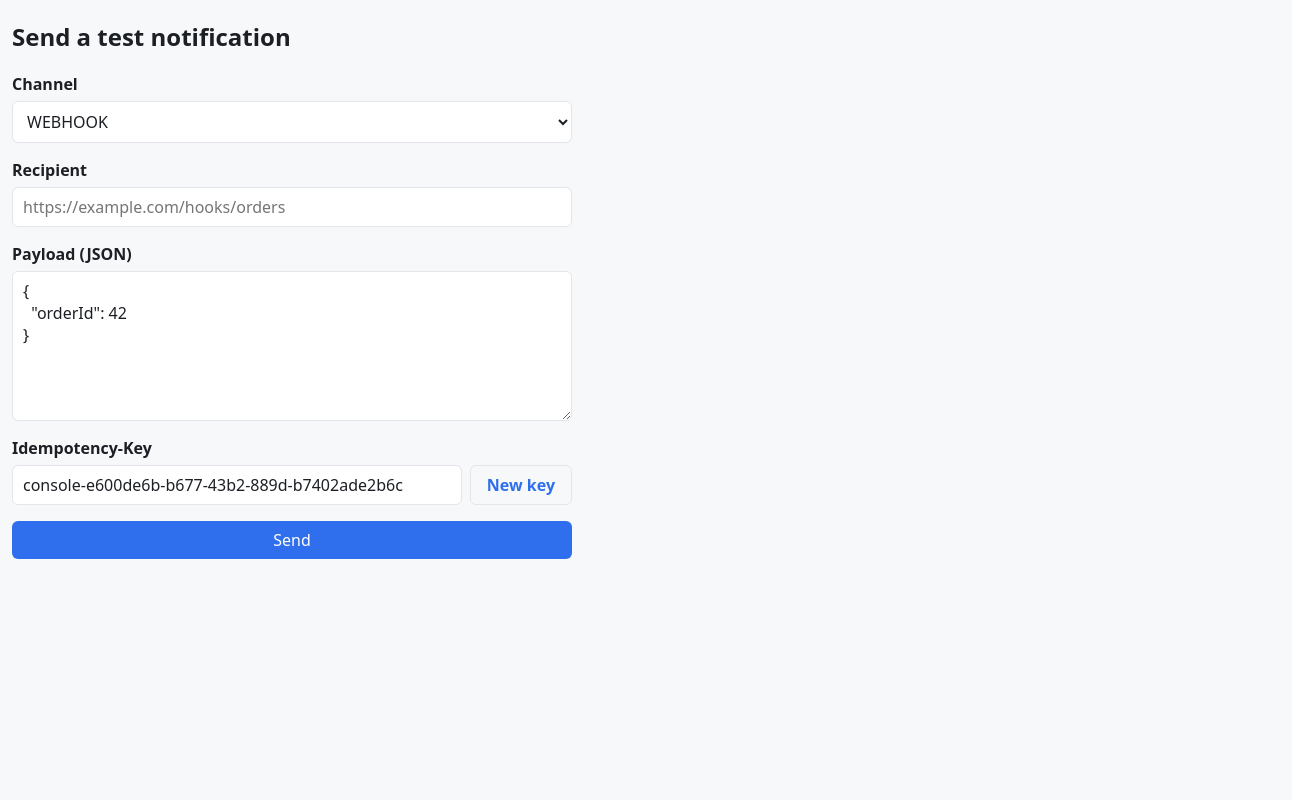
Test: SendNotificationPage › creates a notification and links to it
This screenshot has width=1292, height=800.
In the field labelled "Recipient": coordinates (292, 207) [12,187,572,227], type "https://example.com/hooks"
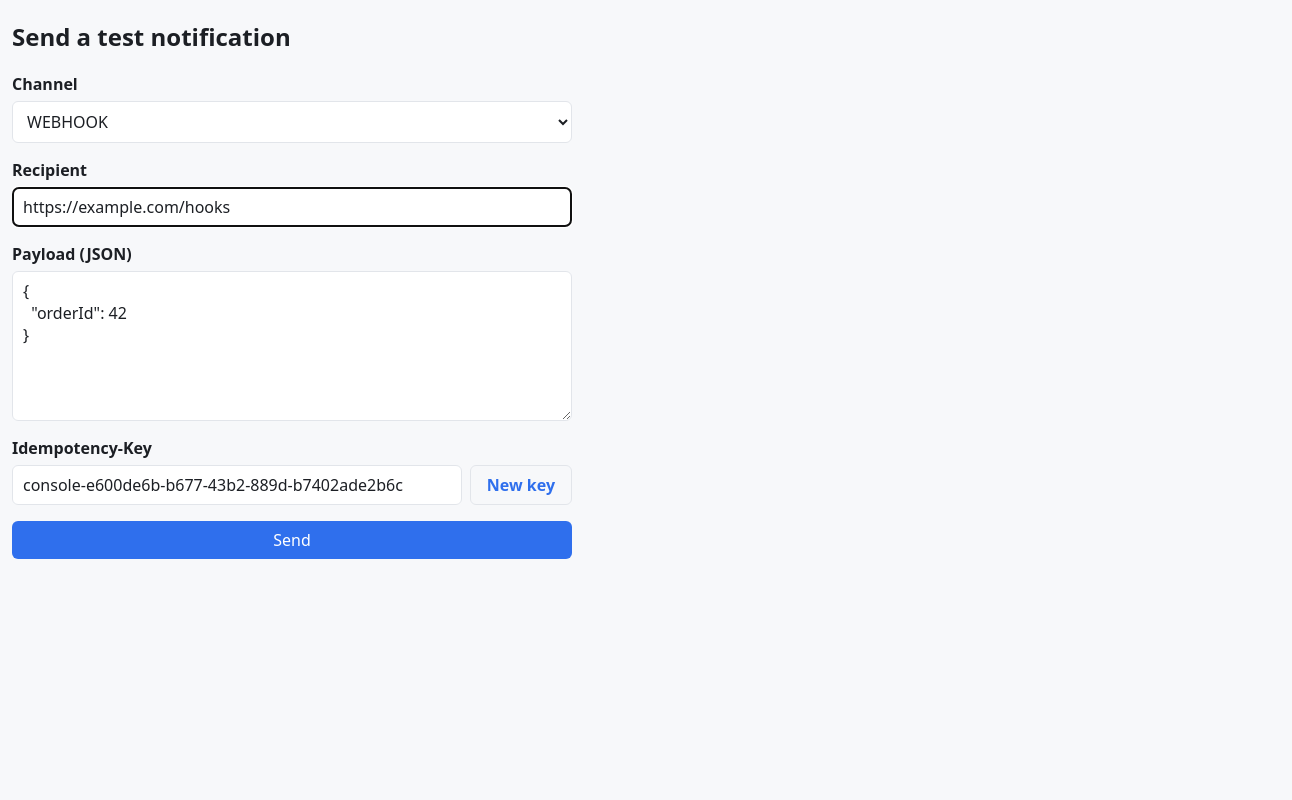
Click the button "Send": coordinates (292, 540) [12,521,572,559]
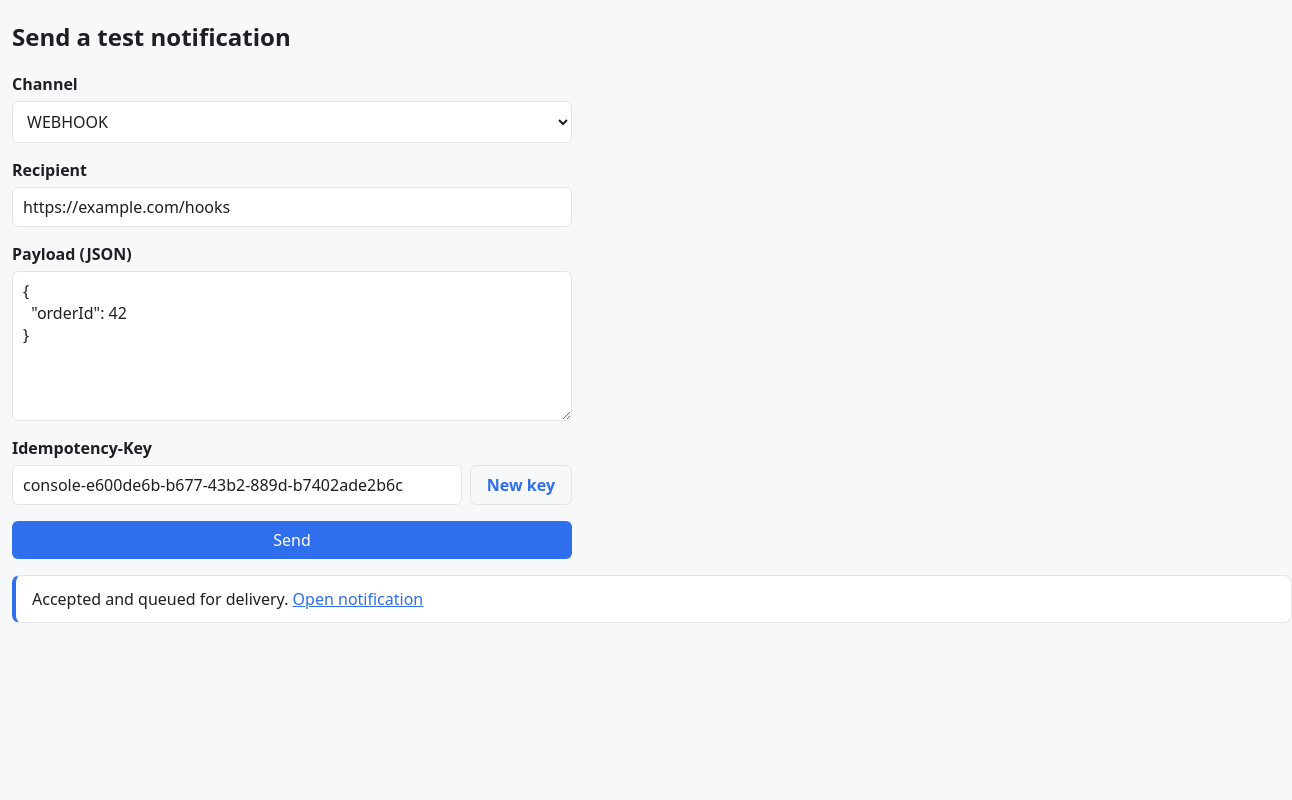
Expected: the message shows "Accepted and queued", [32,588,288,610]
Expected: the link "Open notification" is shown, [293,588,423,610]
